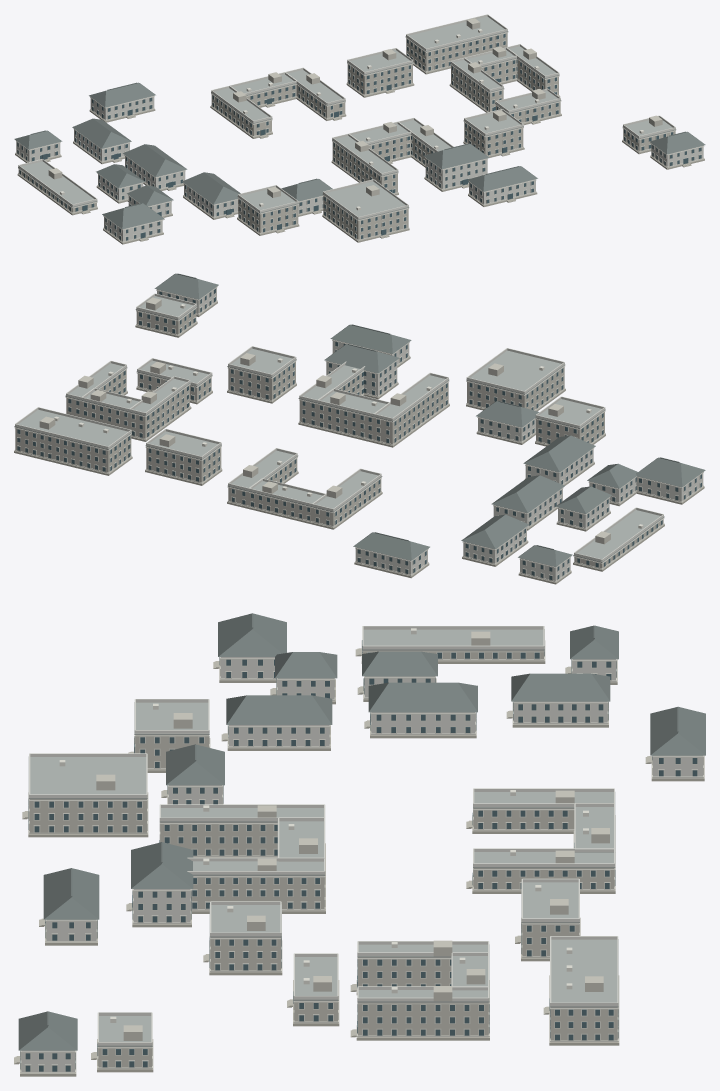
Rendered from 01-hanbing-v14.glb.
3 views of the same model, one above another, from view 1: azimuth 30°, elevation 25°; view 2: azimuth 150°, elevation 25°; view 3: azimuth 270°, elevation 25° (orthographic). The views are drawn at different scales.
Visible parts, largest first — view 1: Weathered flat roof details.004, Window frames and coping details.004, Dark blue grey glazing details.004, Pale limestone details.004, Walkway stone details.004, Warm ivory plaster details.004, 力学实验室.001, 兴业光学楼.001, 简公堂（200号） hipped tiled roof.001, 相伯堂 hipped tiled roof.001, 电光源研究所.001, 景莱堂（300号） hipped tiled roof.001 (+29 smaller); view 2: Weathered flat roof details.004, Window frames and coping details.004, Dark blue grey glazing details.004, Pale limestone details.004, Walkway stone details.004, Warm ivory plaster details.004, 兴业光学楼.001, 简公堂（200号） hipped tiled roof.001, 相伯堂 hipped tiled roof.001, 力学实验室.001, 外事处 · 西翼.001, 景莱堂（300号） hipped tiled roof.001 (+30 smaller); view 3: Weathered flat roof details.004, Window frames and coping details.004, Pale limestone details.004, Dark blue grey glazing details.004, Walkway stone details.004, Warm ivory plaster details.004, 第一教学楼 · 东翼.001, 简公堂（200号） hipped tiled roof.001, 相伯堂 hipped tiled roof.001, 力学实验室.001, 外事处 · 东翼.001, 景莱堂（300号） hipped tiled roof.001 (+30 smaller).
Boxes of the visible parts, x1,y1,x2,y2 form: Weathered flat roof details.004: (18,16,676,219); Window frames and coping details.004: (15,29,704,242); Dark blue grey glazing details.004: (17,34,701,240); Pale limestone details.004: (18,14,675,219); Walkway stone details.004: (15,63,704,244); Warm ivory plaster details.004: (48,18,662,197); 力学实验室.001: (323,196,408,240); 兴业光学楼.001: (406,32,507,72); 简公堂（200号） hipped tiled roof.001: (123,144,187,177); 相伯堂 hipped tiled roof.001: (182,172,240,204); 电光源研究所.001: (347,63,412,95); 景莱堂（300号） hipped tiled roof.001: (72,118,131,148); Weathered flat roof details.004: (14,296,664,562); Window frames and coping details.004: (14,286,703,581); Dark blue grey glazing details.004: (17,289,701,579); Pale limestone details.004: (15,293,663,561); Walkway stone details.004: (14,301,704,584); Warm ivory plaster details.004: (39,297,610,544); 兴业光学楼.001: (15,427,131,473); 简公堂（200号） hipped tiled roof.001: (491,475,564,512); 相伯堂 hipped tiled roof.001: (523,435,595,472); 力学实验室.001: (467,367,564,409); 外事处 · 西翼.001: (374,382,448,445); 景莱堂（300号） hipped tiled roof.001: (461,514,529,549); Weathered flat roof details.004: (28,629,618,1046); Window frames and coping details.004: (20,628,703,1072); Pale limestone details.004: (29,626,618,1045); Dark blue grey glazing details.004: (20,640,697,1071); Walkway stone details.004: (14,640,704,1076); Warm ivory plaster details.004: (96,631,609,1040); 第一教学楼 · 东翼.001: (358,1002,488,1037); 简公堂（200号） hipped tiled roof.001: (368,682,477,712); 相伯堂 hipped tiled roof.001: (226,695,332,724); 力学实验室.001: (29,799,146,833); 外事处 · 东翼.001: (191,876,324,910); 景莱堂（300号） hipped tiled roof.001: (511,673,610,701).
Bounding box in the file's own units: 245 × 14.7 × 165.
